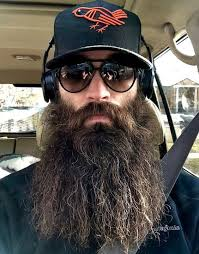b.y: (56, 100, 146, 234)
